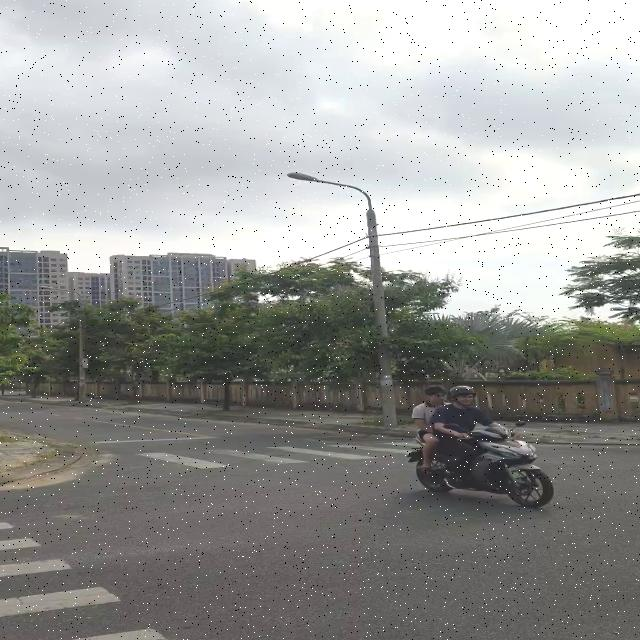helmet: (449, 385, 485, 414)
no_helmet: (426, 384, 448, 404)
